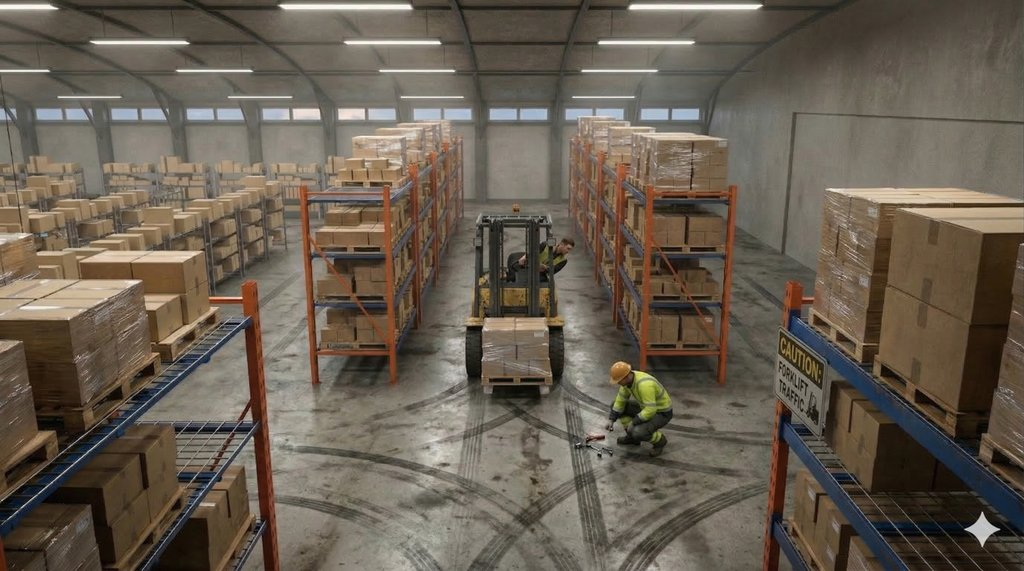empty_shelf: (883, 439, 1009, 563), (158, 399, 244, 467), (312, 172, 382, 206)
forklift: (459, 192, 596, 415)
pallet: (865, 344, 963, 446), (60, 372, 167, 431), (791, 301, 867, 373), (149, 312, 241, 366), (307, 237, 396, 259), (315, 292, 396, 313), (649, 284, 721, 307), (641, 338, 729, 356), (318, 336, 394, 356), (651, 239, 721, 252)
person: (606, 359, 678, 472), (519, 226, 585, 284)
safety_helmet: (611, 365, 635, 389)
safety_signage: (755, 318, 832, 433)
safety_vest: (623, 375, 676, 441), (530, 242, 575, 275)
